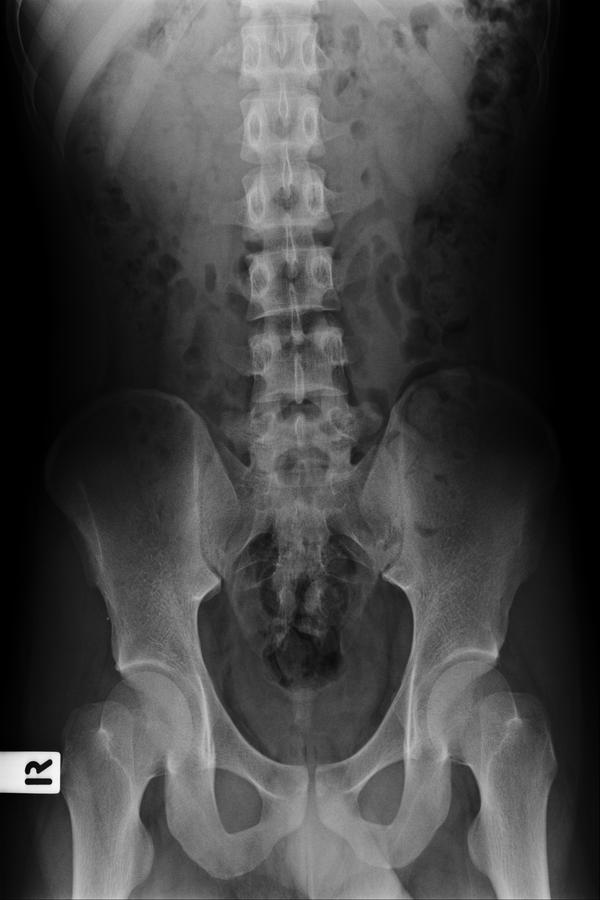lumbar scoliosis: (234, 122, 354, 495)
